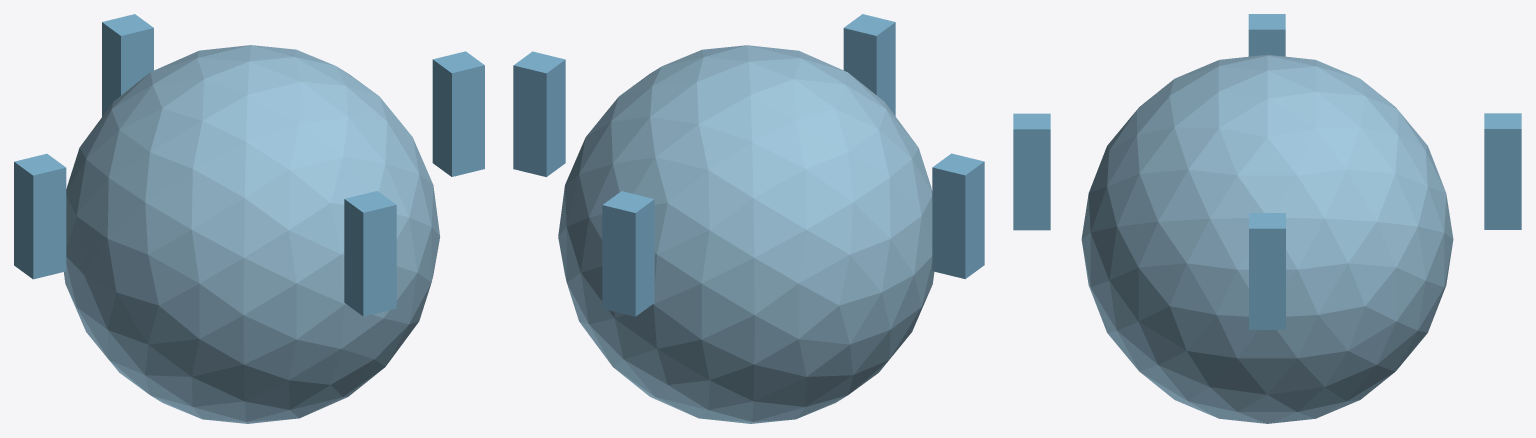
File: pet_t6.glb
3 renders of one model, left to right at view 1: azimuth 30°, elevation 25°; view 2: azimuth 150°, elevation 25°; view 3: azimuth 270°, elevation 25°, orthographic. The views are drawn at different scales.
Visible parts, largest first — view 1: geometry_0; view 2: geometry_0; view 3: geometry_0.
Part boxes in pixels (x1=…): geometry_0: x1=14, y1=14, x2=484, y2=423; geometry_0: x1=513, y1=14, x2=984, y2=423; geometry_0: x1=1013, y1=14, x2=1521, y2=423.
Size of the model in its own units: 0.82 by 0.6 by 0.82.
